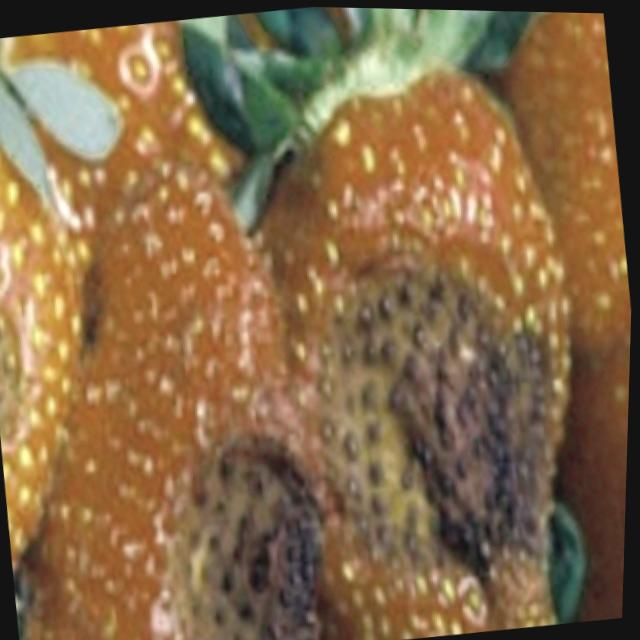Anthracnose Fruit Rot: (302, 250, 558, 588), (146, 426, 325, 640), (0, 284, 35, 447)
